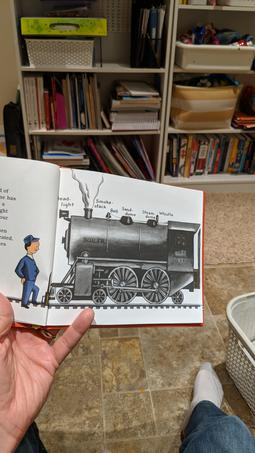text block: (1, 186, 20, 256), (118, 200, 137, 226), (88, 196, 115, 214), (53, 192, 78, 210), (155, 206, 179, 220), (138, 207, 157, 221)
